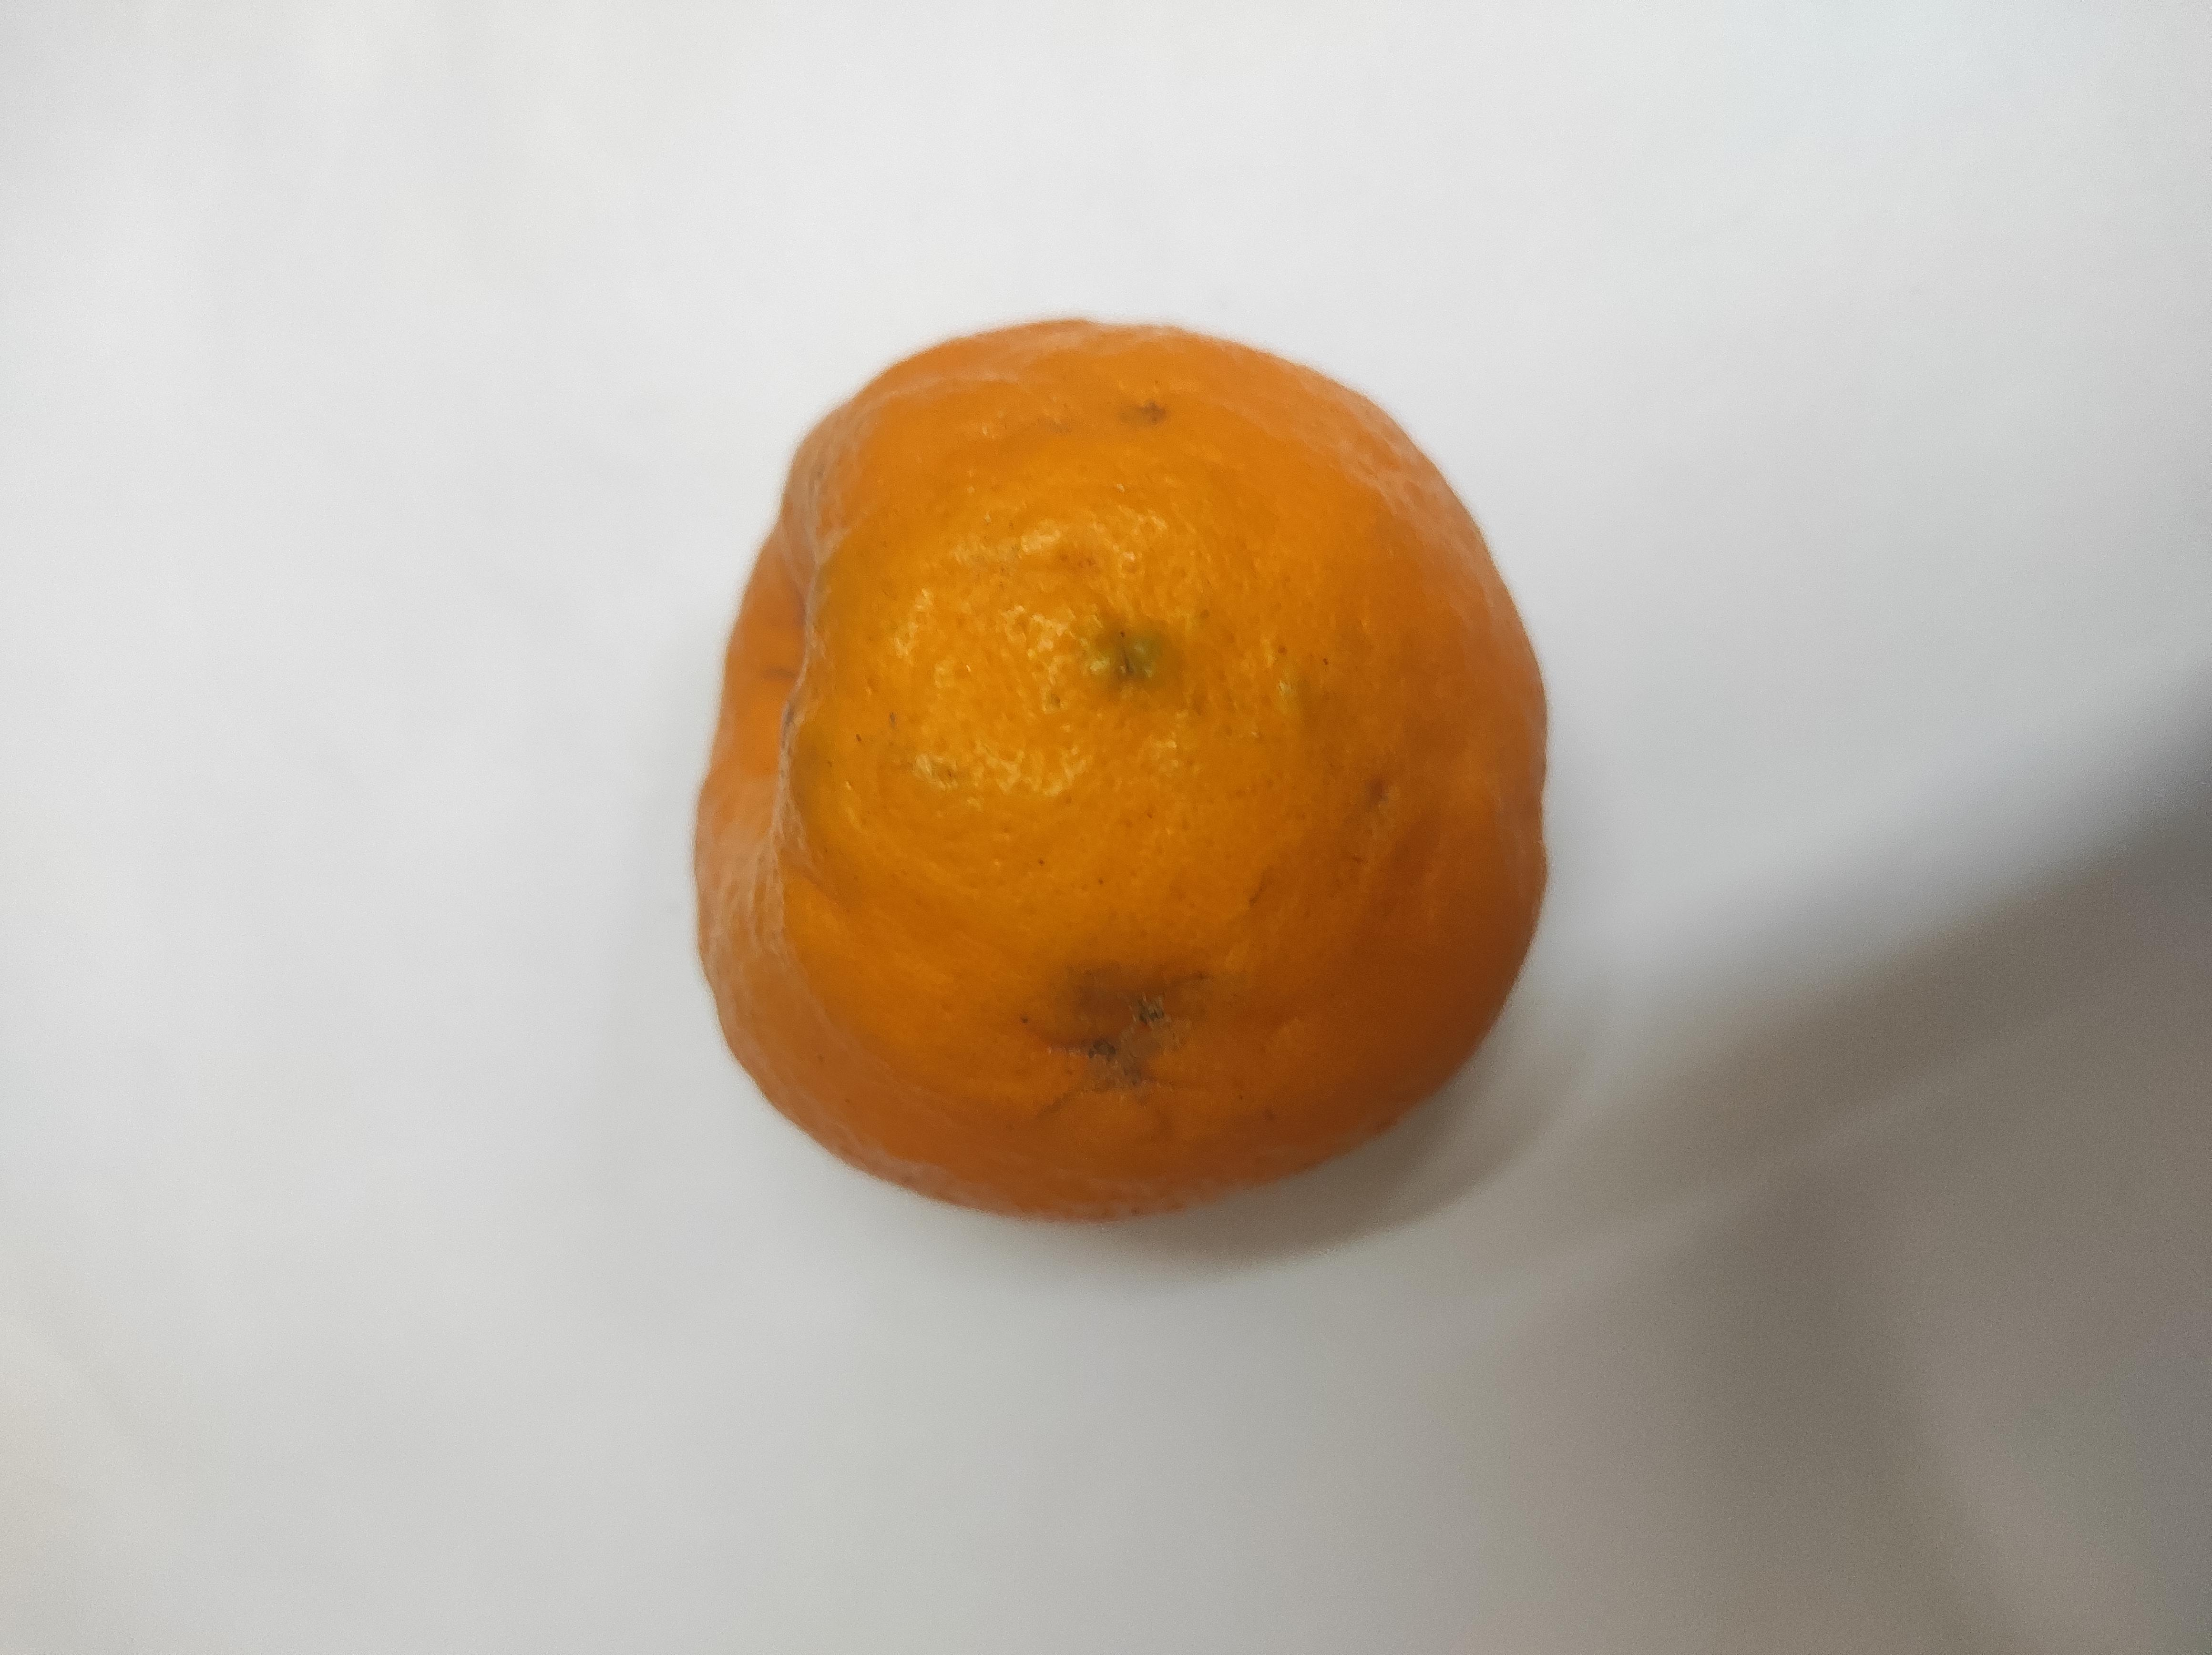Ripe: (690, 320, 1555, 1201)
